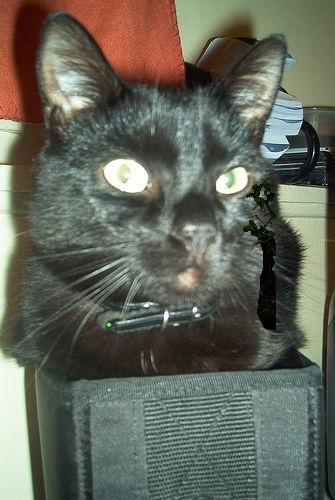tampered: (244, 179, 276, 330)
